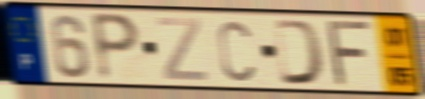6: (48, 11, 91, 80)
C: (215, 18, 257, 83)
D: (271, 17, 328, 88)
F: (326, 19, 376, 89)
P: (88, 10, 143, 84)
Z: (154, 15, 209, 83)
